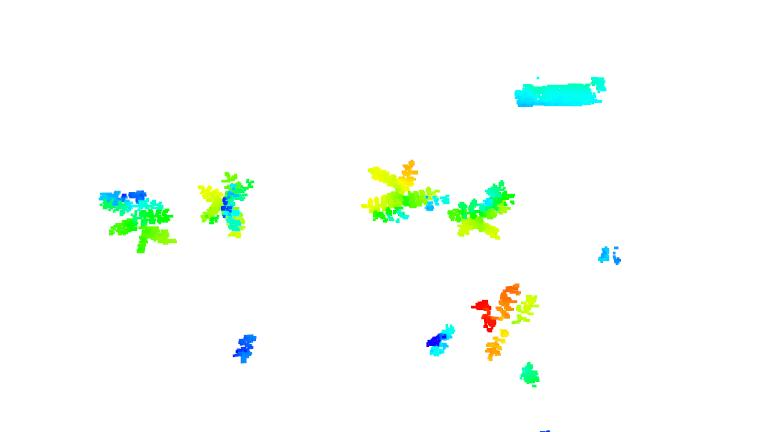chickpea: (479, 284, 554, 393), (90, 184, 181, 254), (361, 162, 451, 225), (447, 176, 521, 244), (190, 169, 257, 238), (221, 329, 284, 374), (416, 317, 469, 360)
